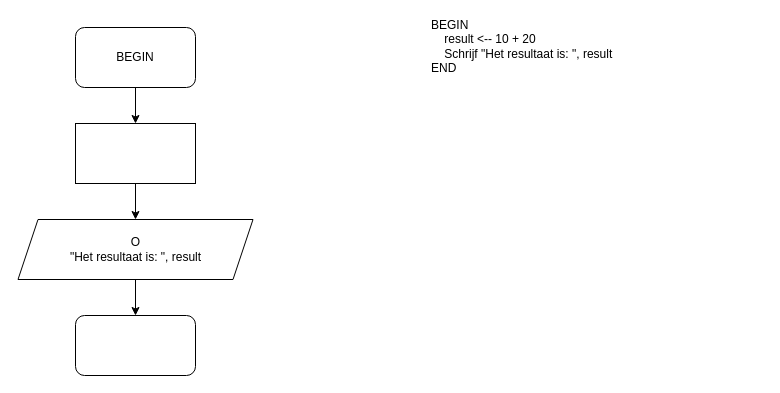
Image size: 780x393. Some labels were removed from this diagram. Each missing label, with the centre of its shape:
END: the point at 135,345
result <-- 10 + 20: the point at 135,153
